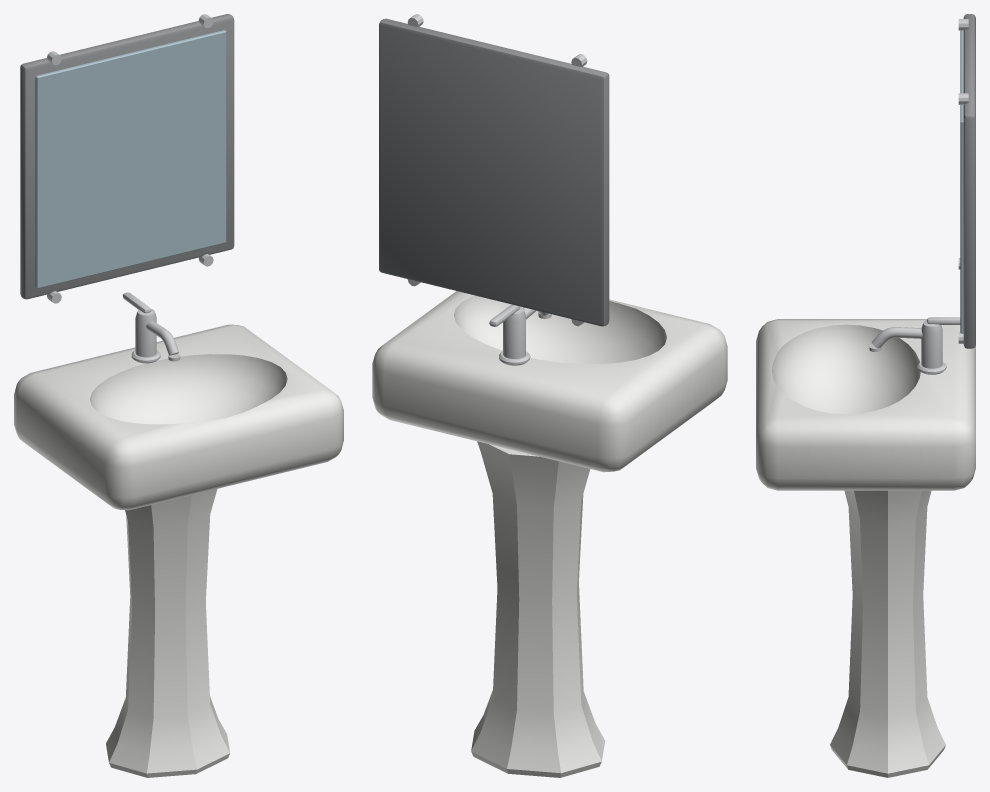
The model's file is Sink.fbx.
3 views of the same model, side by side, from view 1: azimuth 30°, elevation 25°; view 2: azimuth 150°, elevation 25°; view 3: azimuth 270°, elevation 25° (orthographic). The views are drawn at different scales.
Visible parts, largest first — view 1: Sink_Mesh; view 2: Sink_Mesh; view 3: Sink_Mesh.
Boxes of the visible parts, <box> form: Sink_Mesh: <box>14,14,343,777</box>; Sink_Mesh: <box>372,14,727,777</box>; Sink_Mesh: <box>756,14,975,777</box>.
Size of the model in its own units: 0.56 by 1.57 by 0.45.
